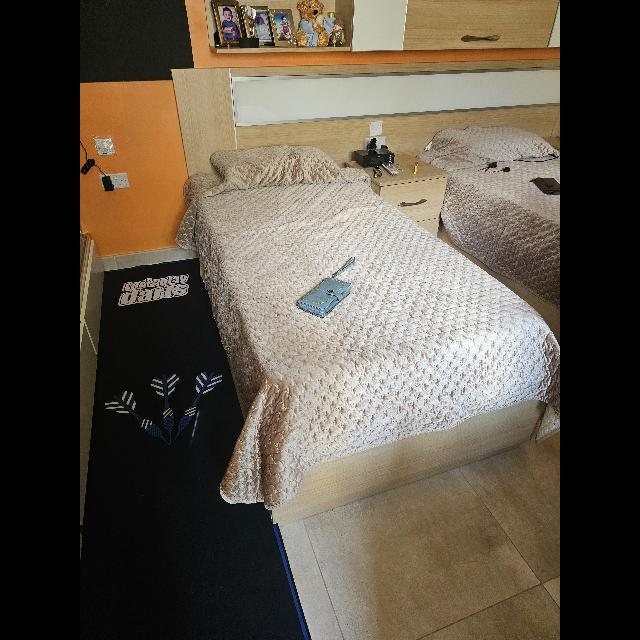Sunglasses: (373, 166, 382, 178)
Wallet: (296, 276, 352, 318), (530, 176, 560, 194)
